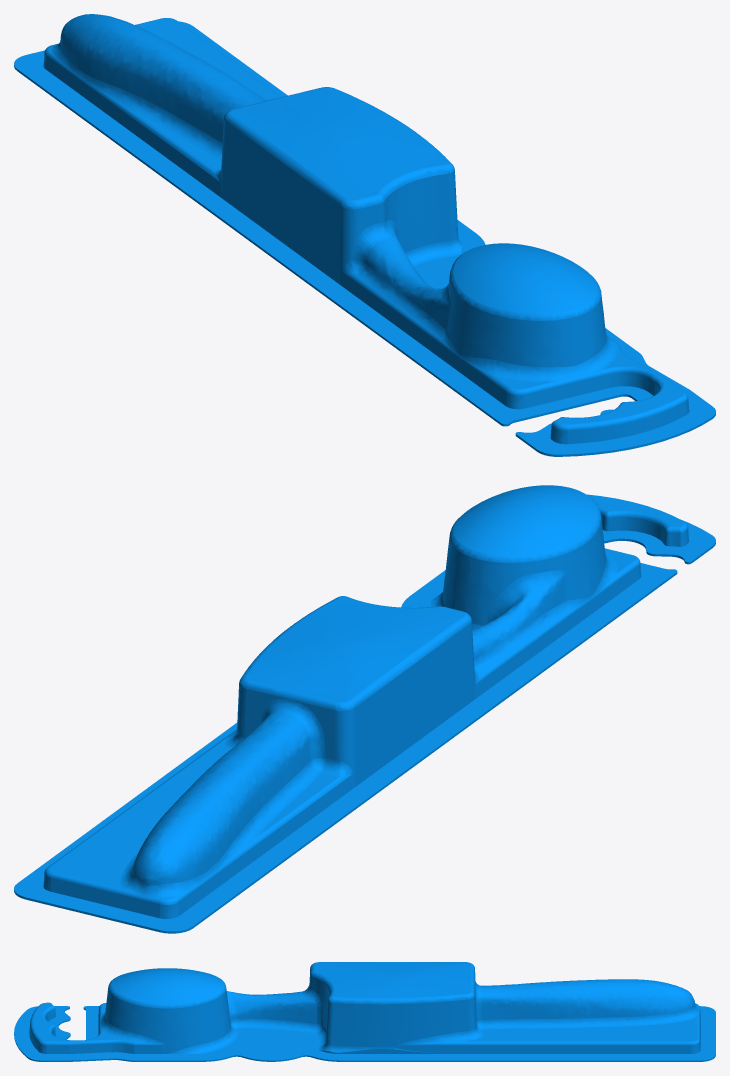
The model's file is packet.glb.
3 views of the same model, one above another, from view 1: azimuth 30°, elevation 25°; view 2: azimuth 150°, elevation 25°; view 3: azimuth 270°, elevation 25° (orthographic). The views are drawn at different scales.
Visible parts, largest first — view 1: empty_2; view 2: empty_2; view 3: empty_2.
Part boxes in pixels (x1,y1,x2,y2): empty_2: (14,14,715,456); empty_2: (14,485,715,933); empty_2: (14,962,715,1061).
Bounding box in the file's own units: 42 × 21.49 × 229.
